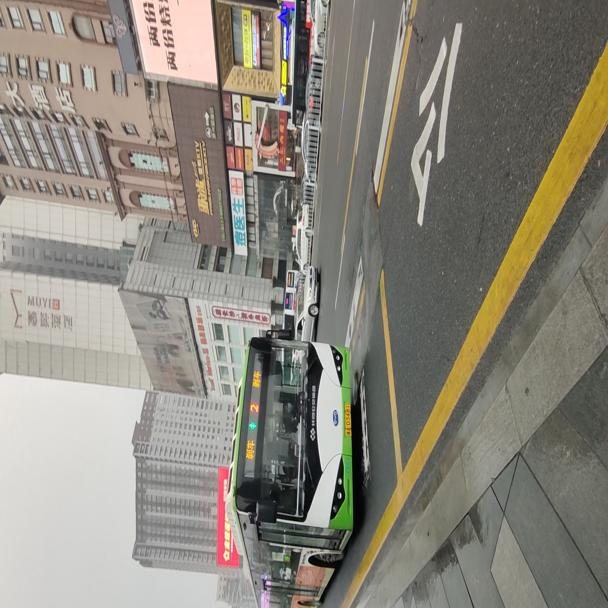bus: (224, 334, 355, 606)
screen: (248, 400, 259, 412)
